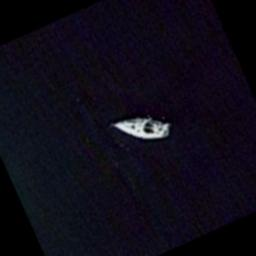boat: (105, 99, 174, 158)
